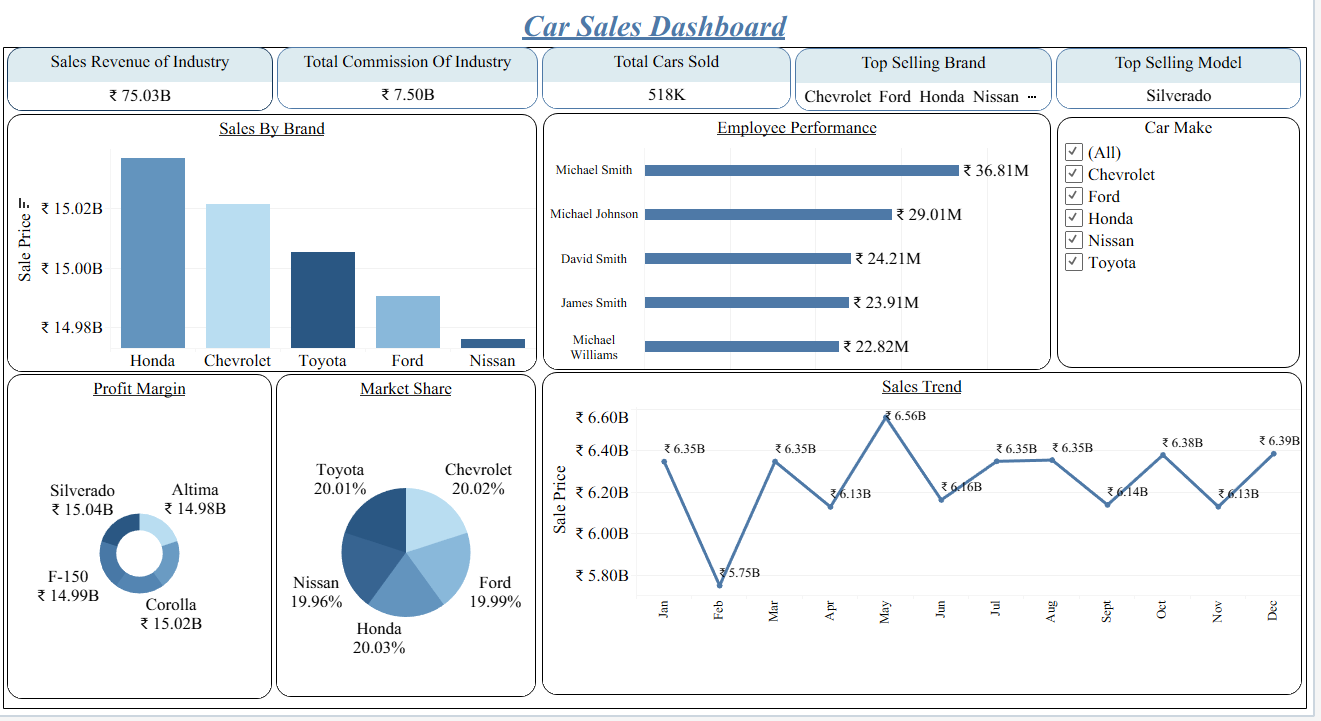

This screenshot's page, from the dashboard's own definition file:
{"tool":"tableau","page":{"name":"Dashboard 1","canvas":[1320,720],"ordinal":0},"visuals":[{"type":"title","box":[8,8,1304,42]},{"type":"worksheet","title":"Sales Revenue of Industry","mark":"Automatic","box":[12,50,266,64]},{"type":"worksheet","title":"Commission Earned By Industry","mark":"Automatic","box":[282,50,261,62]},{"type":"worksheet","title":"Cars Sold ","mark":"Automatic","box":[547,50,249,62]},{"type":"worksheet","title":"Top Selling Brand","mark":"Automatic","box":[800,51,257,63]},{"type":"worksheet","title":"Top Selling Model","mark":"Automatic","box":[1061,51,245,61]},{"type":"worksheet","title":"Employee Performance","mark":"Automatic","rows":["Salesperson"],"cols":["Sale Price"],"box":[548,116,508,257]},{"type":"worksheet","title":"Sales By Brand","mark":"Automatic","rows":["Sale Price"],"cols":["Car Make"],"box":[12,117,530,258]},{"type":"filter","title":"Sales Trend","param":"[federated.0kc9hoi1jo6zv315qydlp11flbm5].[Action (Car Make)]","box":[1062,120,243,251]},{"type":"worksheet","title":"Sales Trend","mark":"Line","rows":["Sale Price"],"cols":["Date"],"box":[547,375,760,323]},{"type":"worksheet","title":" Profit Margin by Car Model ","mark":"Pie","rows":["Calculation_2005022469431297","Calculation_2005022469505027"],"box":[12,377,265,325]},{"type":"worksheet","title":"Market Share","mark":"Pie","box":[281,377,260,323]}]}

Visuals, with their boxes in screenshot pixels (x1, y1, x2, y2), scaled from the page's 1320x720 canvas onto the 1321x721 screenshot:
title: 8/8/1313/50
"Sales Revenue of Industry" worksheet: 12/50/278/114
"Commission Earned By Industry" worksheet: 282/50/543/112
"Cars Sold " worksheet: 547/50/797/112
"Top Selling Brand" worksheet: 801/51/1058/114
"Top Selling Model" worksheet: 1062/51/1307/112
"Employee Performance" worksheet: 548/116/1057/374
"Sales By Brand" worksheet: 12/117/542/376
"Sales Trend" filter: 1063/120/1306/372
"Sales Trend" worksheet (Line marks): 547/376/1308/699
" Profit Margin by Car Model " worksheet (Pie marks): 12/378/277/703
"Market Share" worksheet (Pie marks): 281/378/541/701
